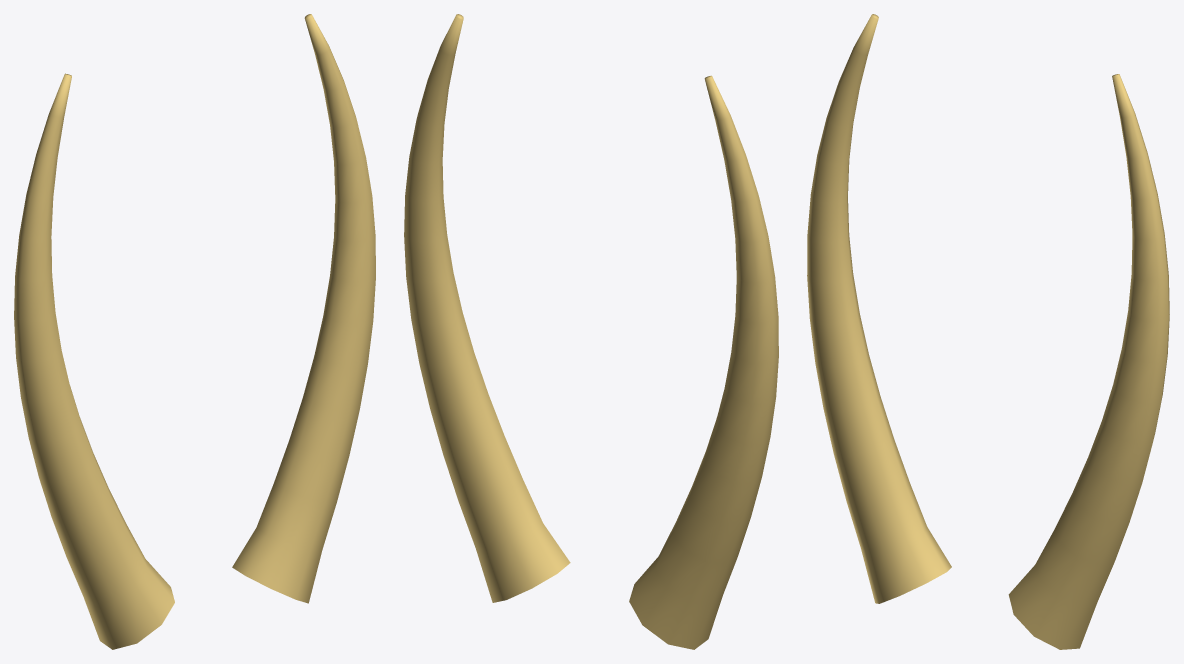
Rendered from horns.glb.
The picture shows the model from 3 angles, left to right: view 1: azimuth 30°, elevation 25°; view 2: azimuth 150°, elevation 25°; view 3: azimuth 330°, elevation 25°; orthographic projection. The views are drawn at different scales.
Parts seen in each view (by area): view 1: CrestHorns; view 2: CrestHorns; view 3: CrestHorns.
Part boxes in pixels (box(x1,y1,x2,y2)): CrestHorns: box(14, 14, 375, 649); CrestHorns: box(404, 14, 778, 649); CrestHorns: box(807, 14, 1169, 649).
Bounding box in the file's own units: 0.3983 × 0.6049 × 0.0736.
